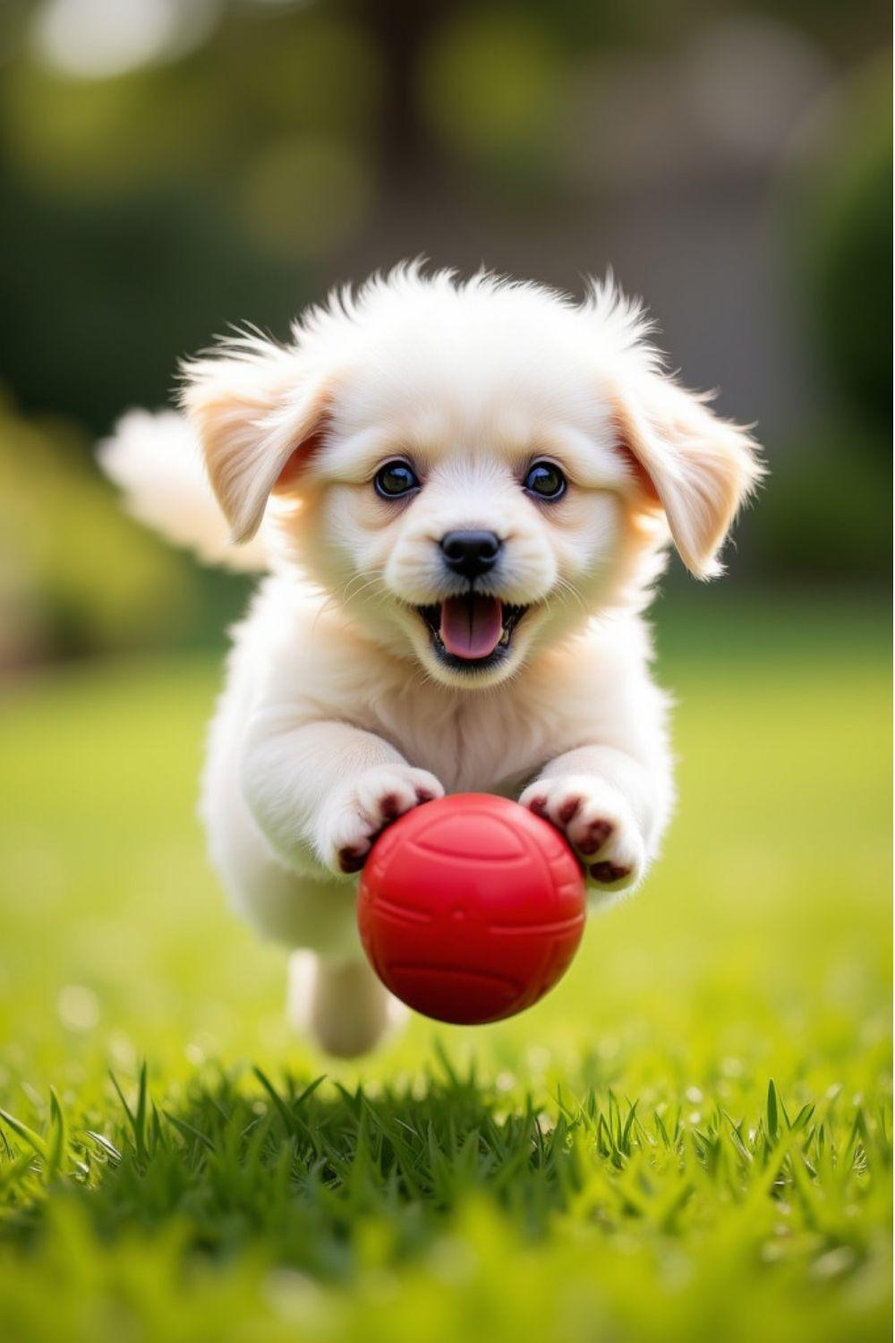puppy-dog: (92, 250, 769, 1063)
